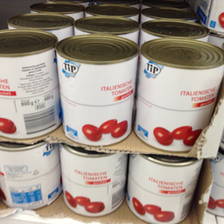tomato_sauce: (133, 39, 224, 153), (54, 33, 140, 147), (1, 29, 59, 140), (125, 153, 204, 224), (58, 145, 128, 218), (1, 143, 60, 210)
